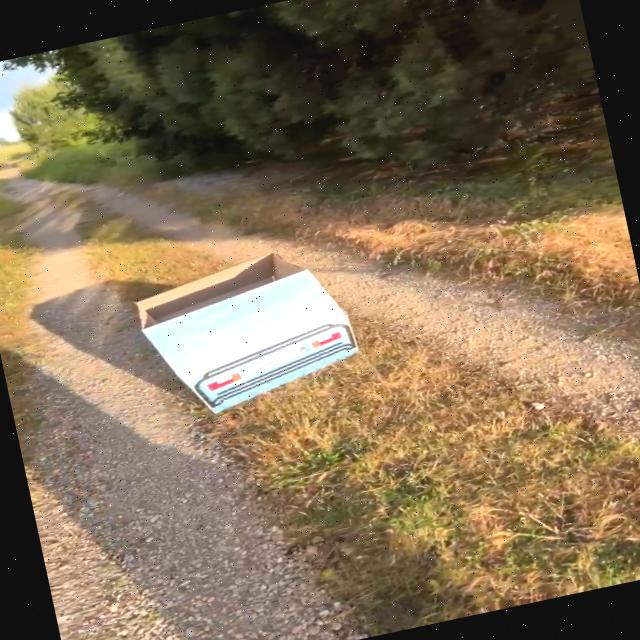blue_car: (106, 217, 408, 447)
